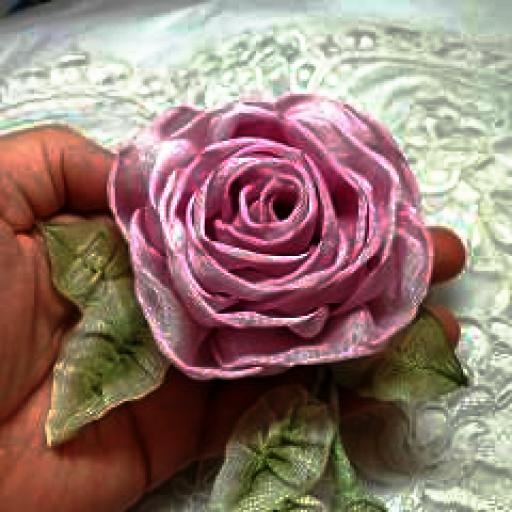rose: (104, 94, 431, 384)
